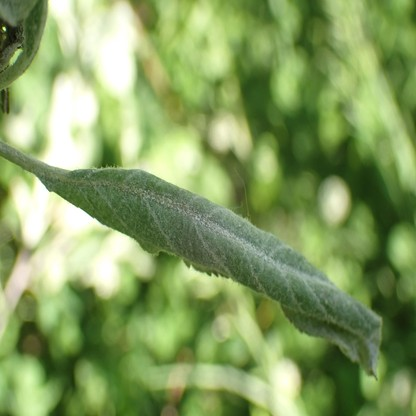powdery_mildew: (52, 166, 381, 377)
